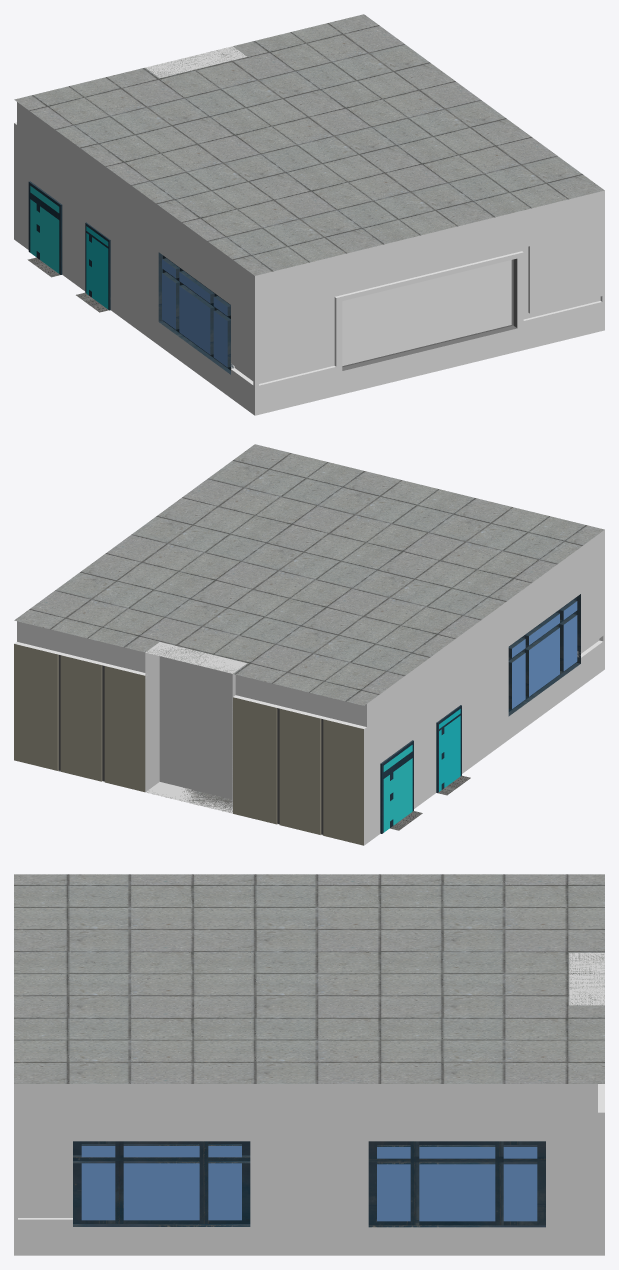
File: aulamejorada.fbx
3 views of the same model, one above another, from view 1: azimuth 30°, elevation 25°; view 2: azimuth 150°, elevation 25°; view 3: azimuth 270°, elevation 25° (orthographic). The views are drawn at different scales.
Parts seen in each view (by area): view 1: Techo, Paredes, Pizarron, Ventanas, PuertaGrande, Cube.001, Cube; view 2: Techo, Paredes, Cube, Ventanas, PuertaGrande, Cube.001, Piso; view 3: Techo, Paredes, Ventanas, Cube.
Boxes of the visible parts, x1,y1,x2,y2 form: Techo: (14,14,604,275); Paredes: (14,102,604,415); Pizarron: (342,258,517,370); Ventanas: (158,252,233,374); PuertaGrande: (28,181,62,274); Cube.001: (85,222,110,310); Cube: (145,46,246,77); Techo: (14,444,604,705); Paredes: (14,530,604,845); Cube: (145,642,246,813); Ventanas: (508,594,580,716); PuertaGrande: (380,740,413,833); Cube.001: (436,705,461,792); Piso: (58,770,470,830); Techo: (14,874,604,1083); Paredes: (14,1084,604,1255); Ventanas: (73,1141,545,1227); Cube: (569,953,604,1005).
Size of the model in its own units: 478 by 177 by 552.
Materials: 13 (5 with a texture image).
